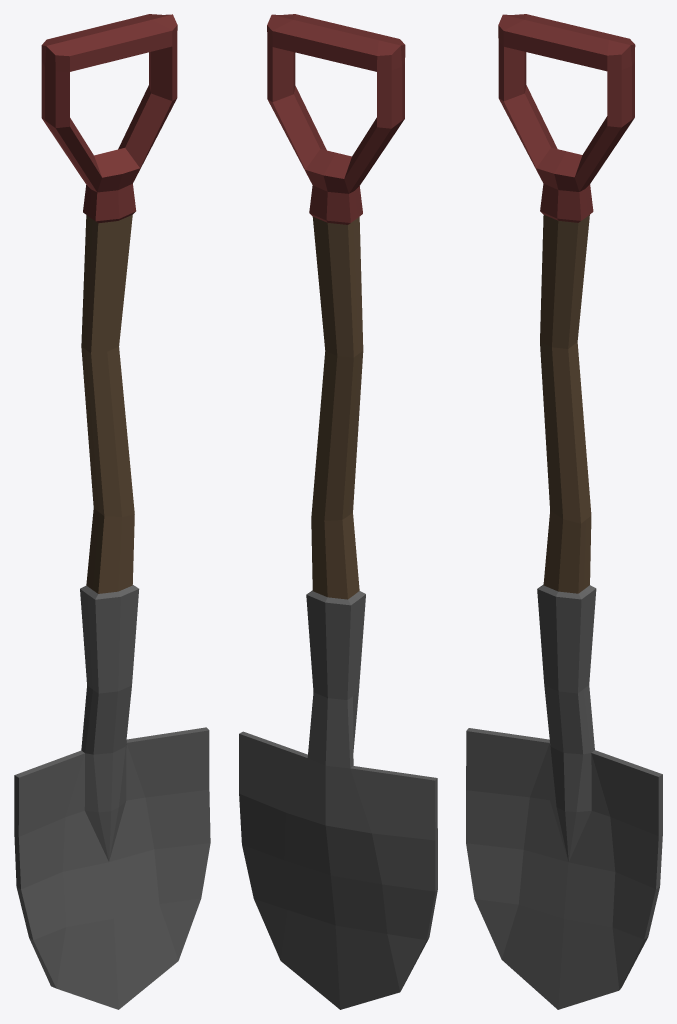
File: shovel.glb
3 renders of one model, left to right at view 1: azimuth 30°, elevation 25°; view 2: azimuth 150°, elevation 25°; view 3: azimuth 330°, elevation 25°, orthographic.
Visible parts, largest first — view 1: Shovel; view 2: Shovel; view 3: Shovel.
Part boxes in pixels (<box>): Shovel: <box>14,14,210,1009</box>; Shovel: <box>239,14,437,1009</box>; Shovel: <box>466,14,662,1009</box>.
Bounding box in the file's own units: 0.8046 × 3.87 × 0.1837.
